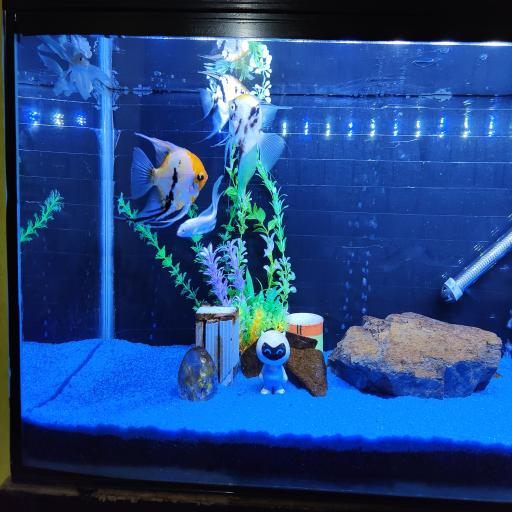Fish: (131, 134, 207, 227), (227, 95, 290, 194), (39, 35, 110, 99), (199, 72, 249, 141), (177, 175, 223, 237), (199, 39, 249, 62)
